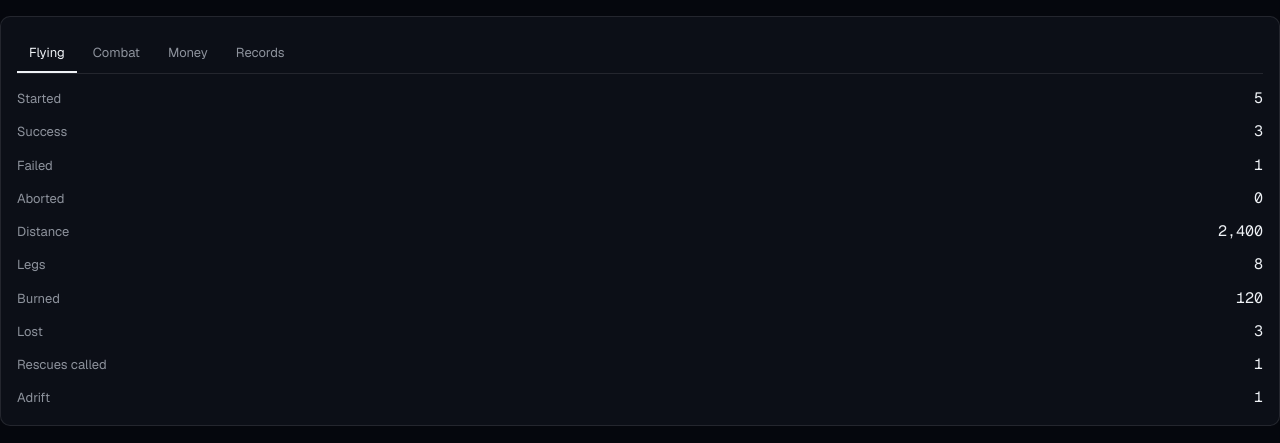
Test: MyStats › shows net money = earned − spent
What coordinates should you click on to do the following:
click the tab "Money"
I would click on:
 (188, 53)
Its box is [156, 33, 220, 73].
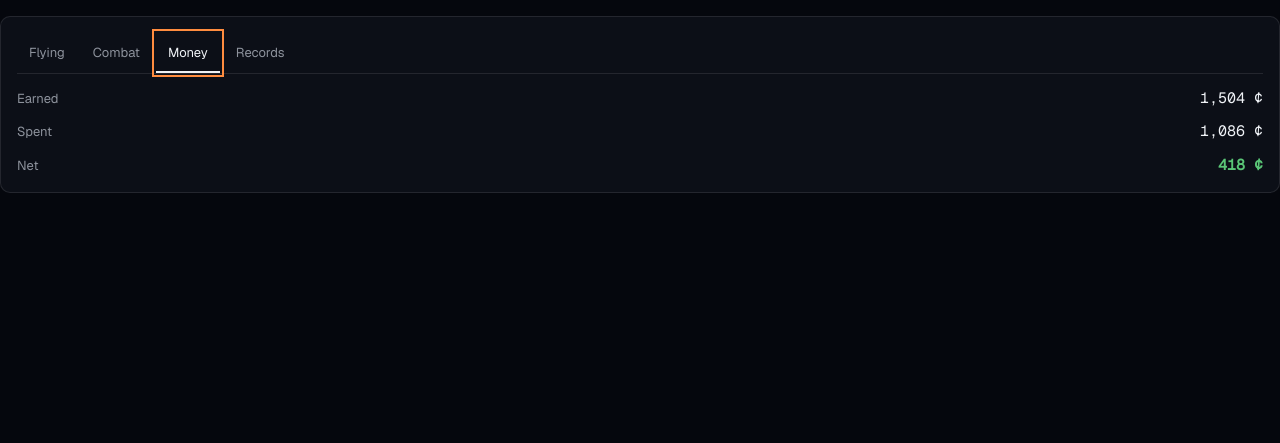
Expected: the text "1,504 ¢" is shown, [1200, 86, 1263, 109]
Expected: the text "1,086 ¢" is shown, [1200, 119, 1263, 143]
Expected: the text "418 ¢" is shown, [1218, 152, 1263, 176]
